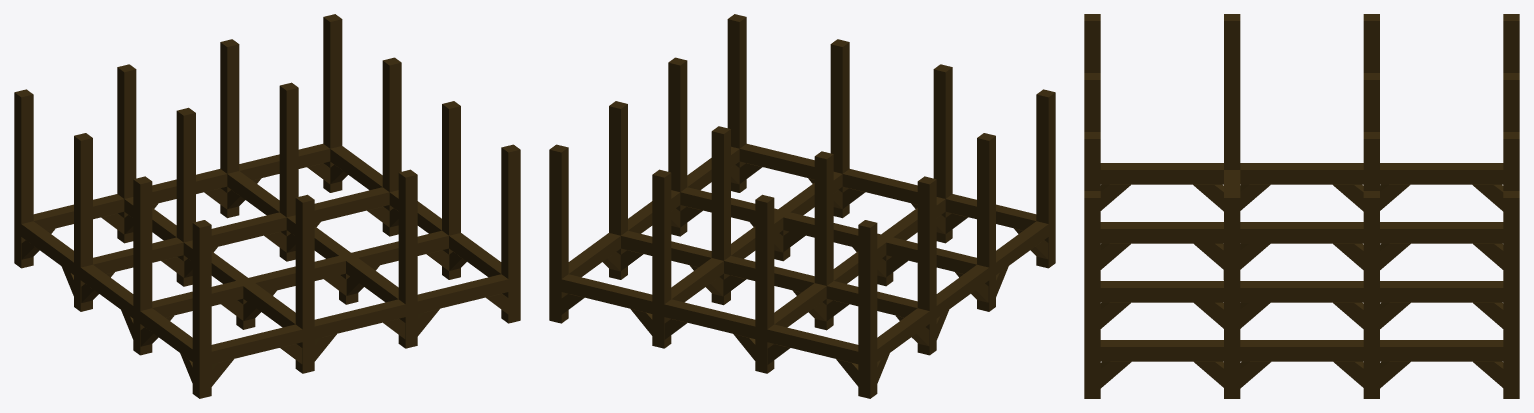
The model's file is temlej.FBX.
3 views of the same model, side by side, from view 1: azimuth 30°, elevation 25°; view 2: azimuth 150°, elevation 25°; view 3: azimuth 270°, elevation 25° (orthographic). The views are drawn at different scales.
Parts seen in each view (by area): view 1: temeljna_Srednja_Greda042; view 2: temeljna_Srednja_Greda042; view 3: temeljna_Srednja_Greda042.
Part boxes in pixels (x1=…): temeljna_Srednja_Greda042: x1=14, y1=14, x2=520, y2=398; temeljna_Srednja_Greda042: x1=549, y1=14, x2=1055, y2=398; temeljna_Srednja_Greda042: x1=1084, y1=14, x2=1519, y2=398.
Bounding box in the file's own units: 530 × 270 × 530.
